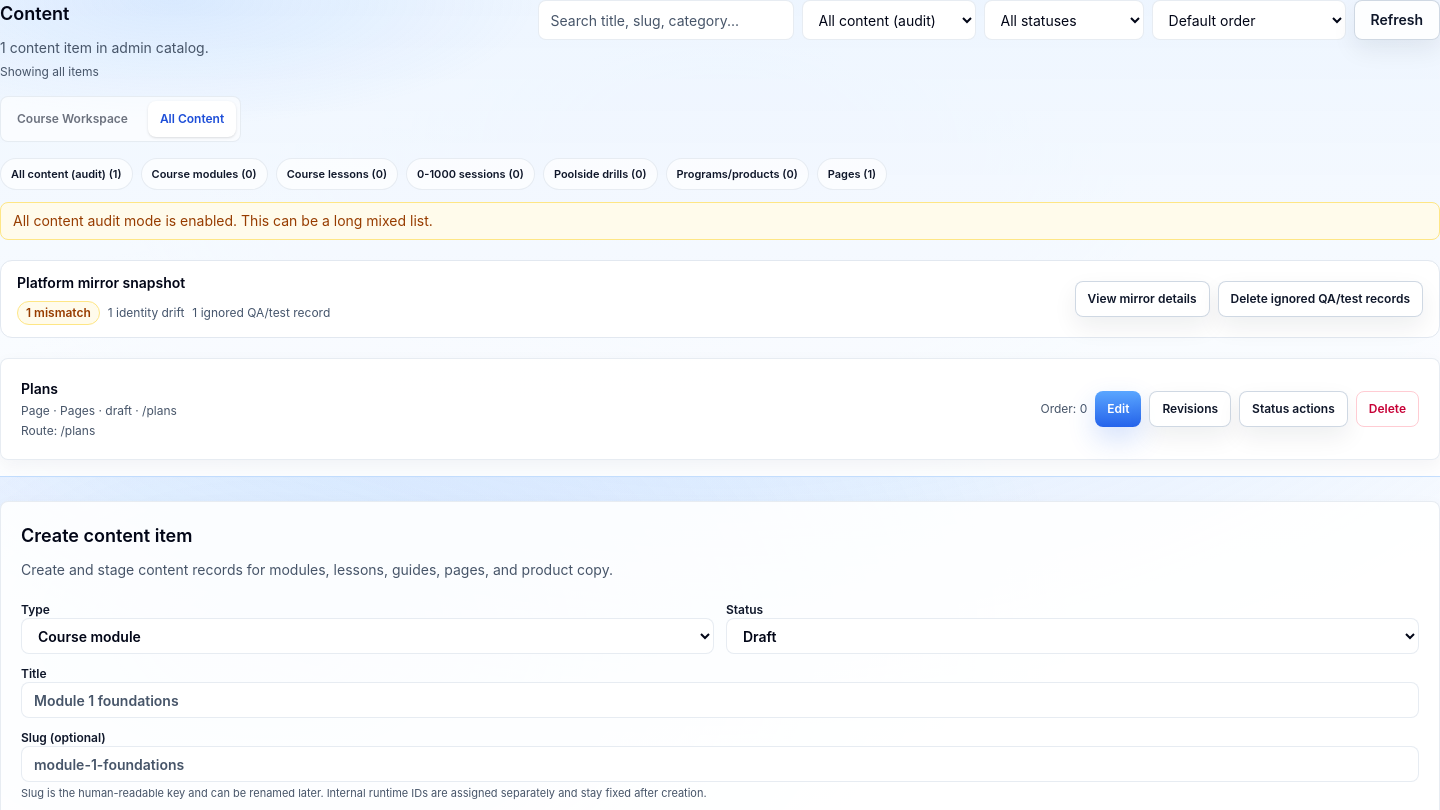
it: AdminContentManager state rendering › keeps mirror QA cleanup action behavior while surfacing cleanup feedback
Click the button with test id "admin-mirror-cleanup-test-records" at (1320, 299), box [1218, 281, 1423, 317]
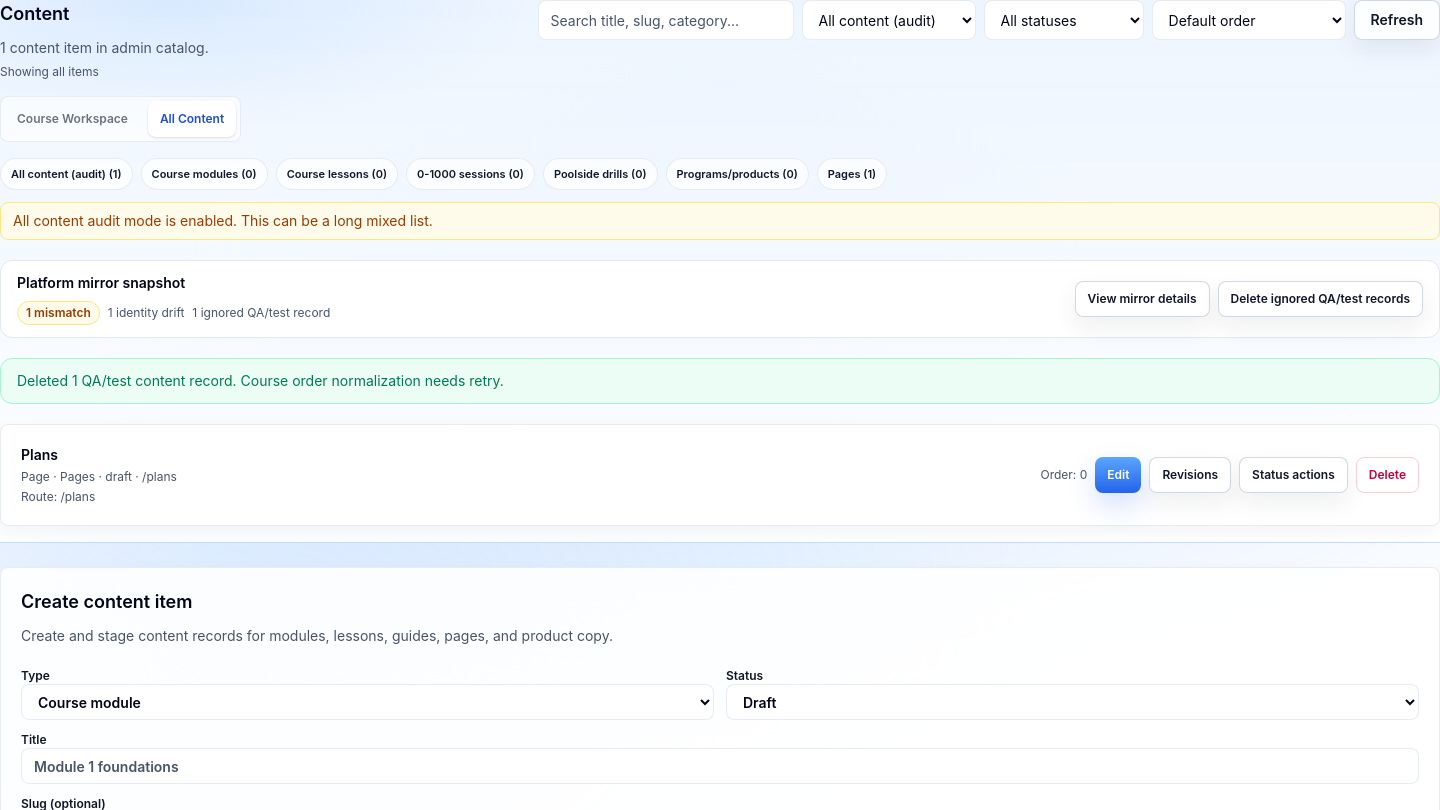
Expected: the message with test id "admin-content-action-notice-state" reads "Deleted 1 QA/test content record. Course order normalization needs retry.", [17, 372, 504, 389]
